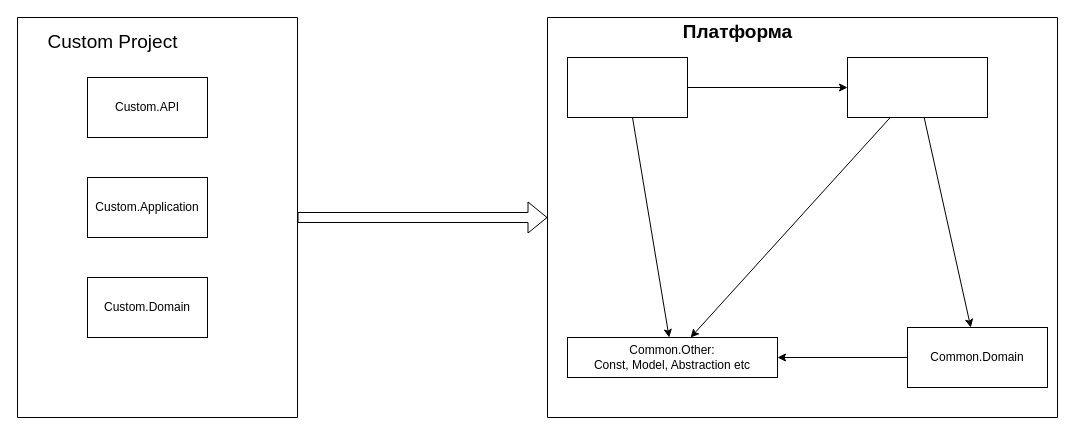
The diagram is 1075 pixels wide and 435 high, and some of its shapes have lost their labels. Here are the shapes that lost their labels. From the top down, the centre of each, then its label:
the point at 627,87: Common.Api
the point at 917,87: Common.Infrastructure
